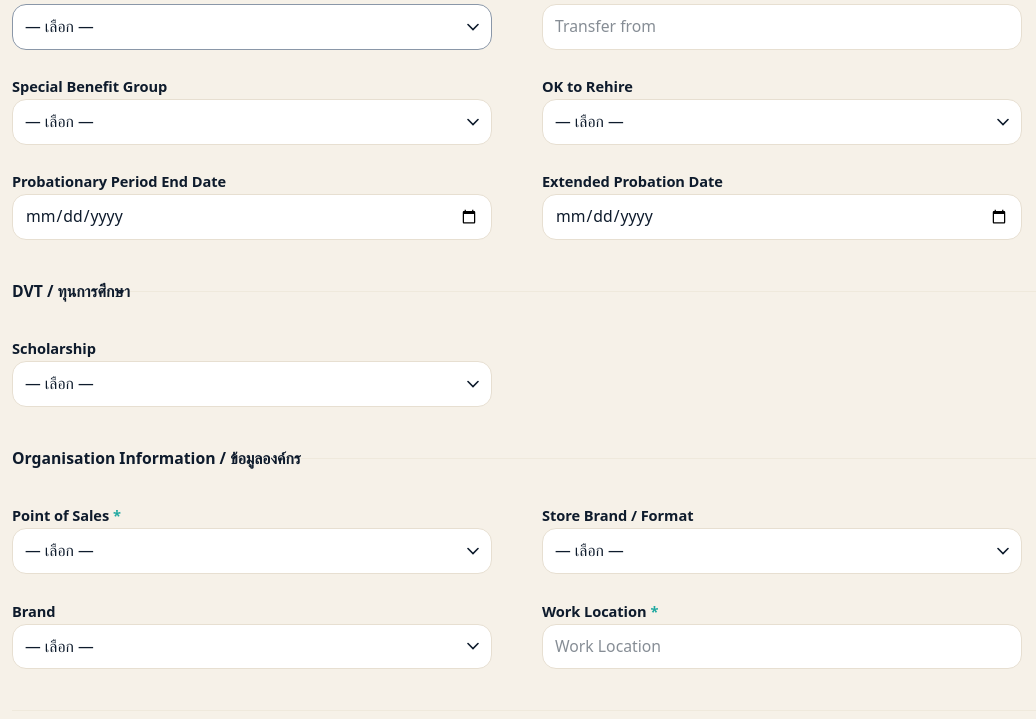
it: StepJob DVT conditional cluster (AC5) › reveals the 7 DVT fields once Scholarship = YES is selected
The width and height of the screenshot is (1036, 719).
(page scrolled)
Select "มีทุนการศึกษา" in the dropdown labelled "Scholarship" at (252, 384), box x1=12 y1=361 x2=492 y2=407
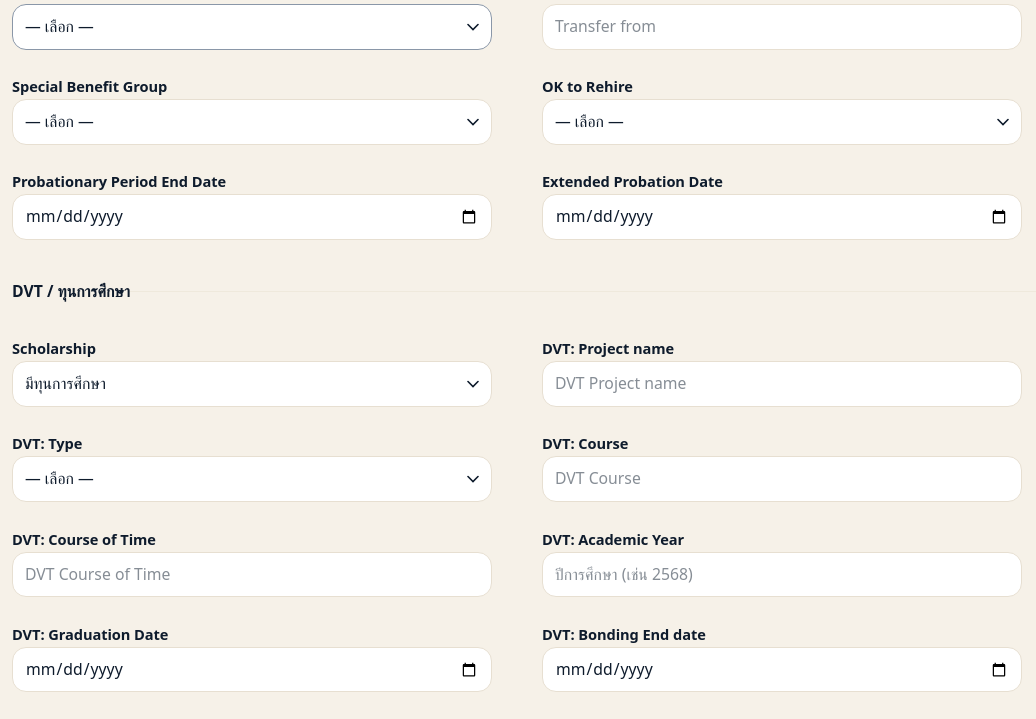
Check: the field labelled "DVT: Project name" is shown, box x1=542 y1=361 x2=1022 y2=407
Check: the dropdown labelled "DVT: Type" is shown, box x1=12 y1=456 x2=492 y2=502
Check: the field labelled "DVT: Course" is shown, box x1=542 y1=456 x2=1022 y2=502
